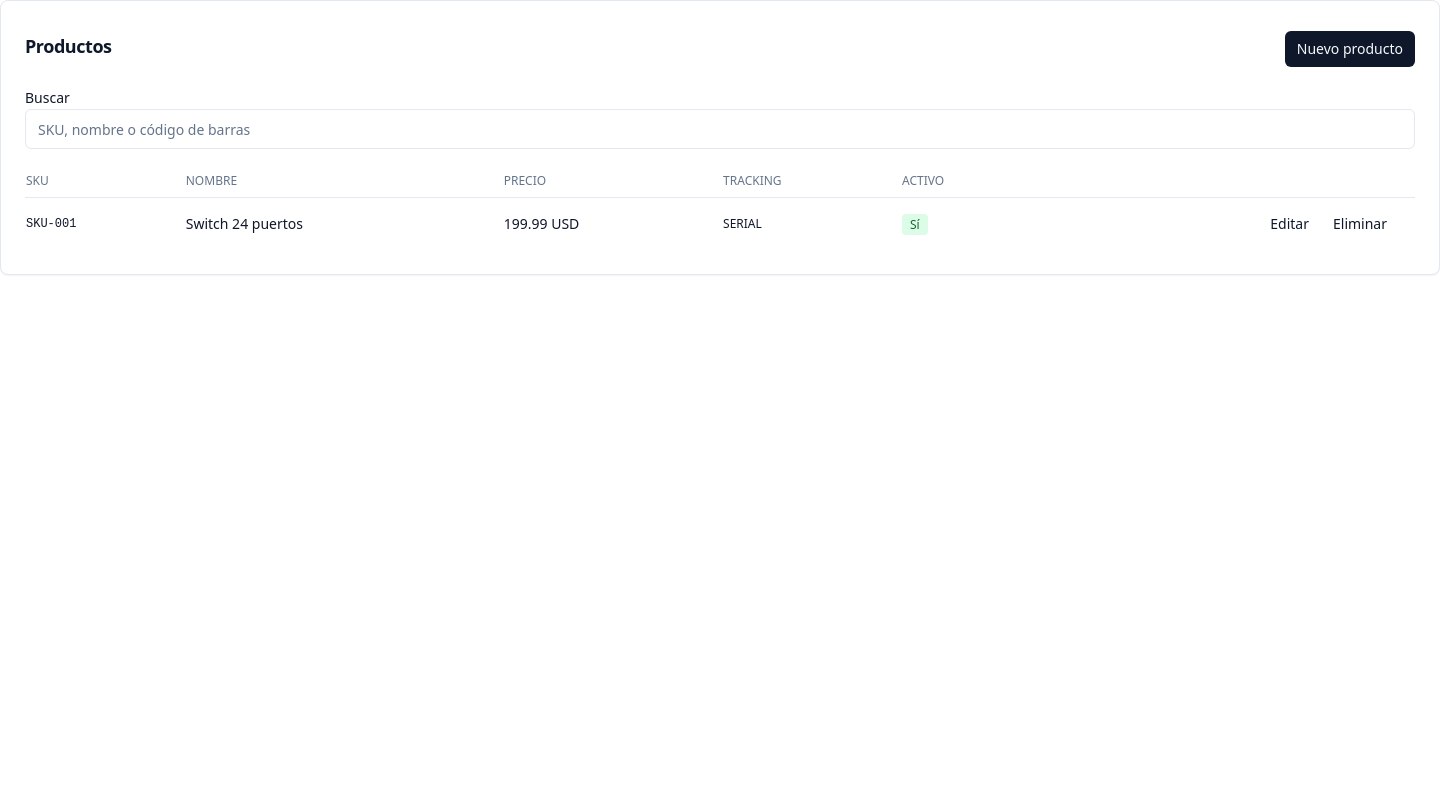
Scenario: ProductsPage — pestaña Precios 3 niveles (HU-11.2) › recálculo bidireccional por fila (cost compartido): editar precio P2 actualiza margen P2 sin tocar P1/P3
Click the button "Editar" at (1290, 224), box [1258,206,1321,242]
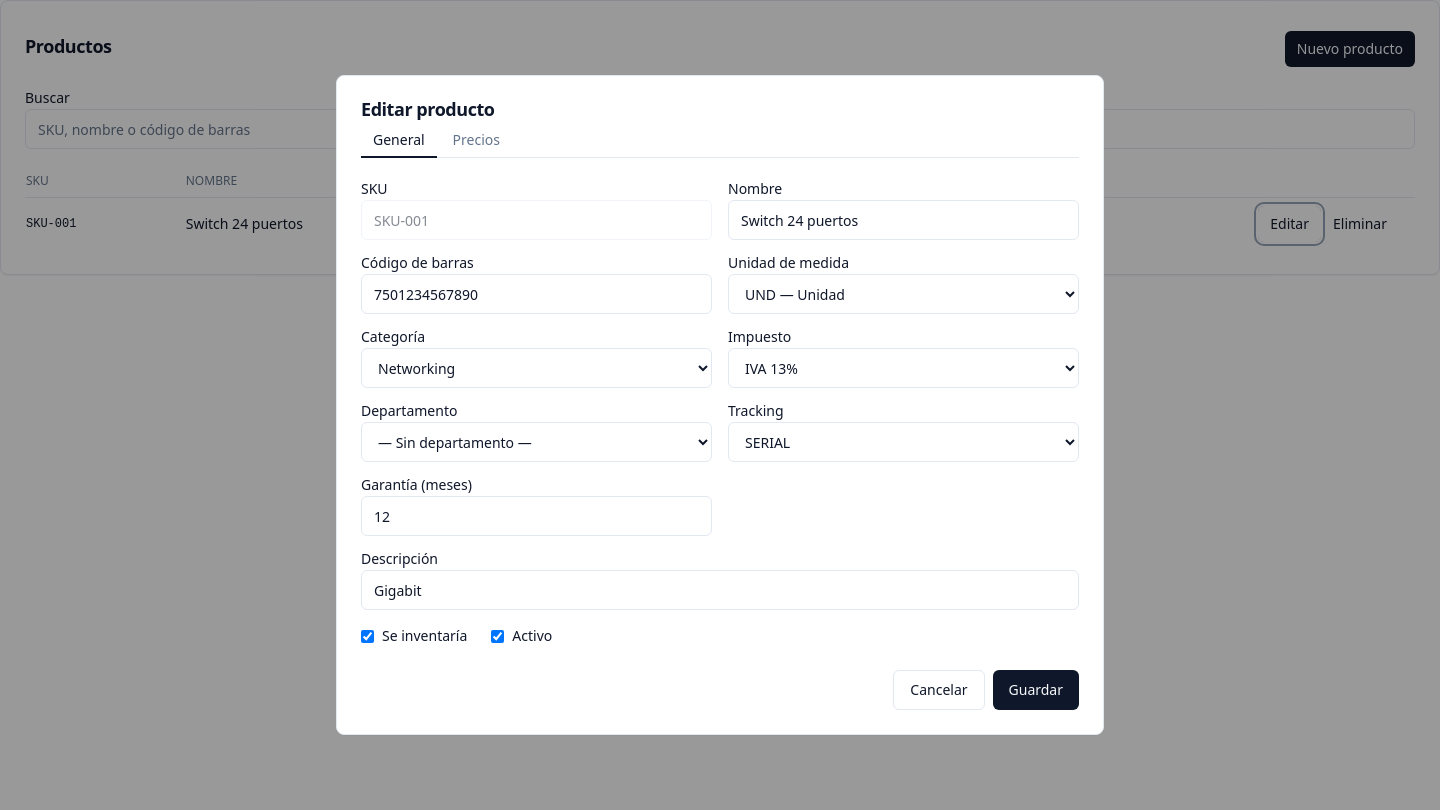
Expected: the heading "Editar producto" is shown, [361,97,494,121]
Click the button "Precios" at (476, 141), box [441,124,512,158]
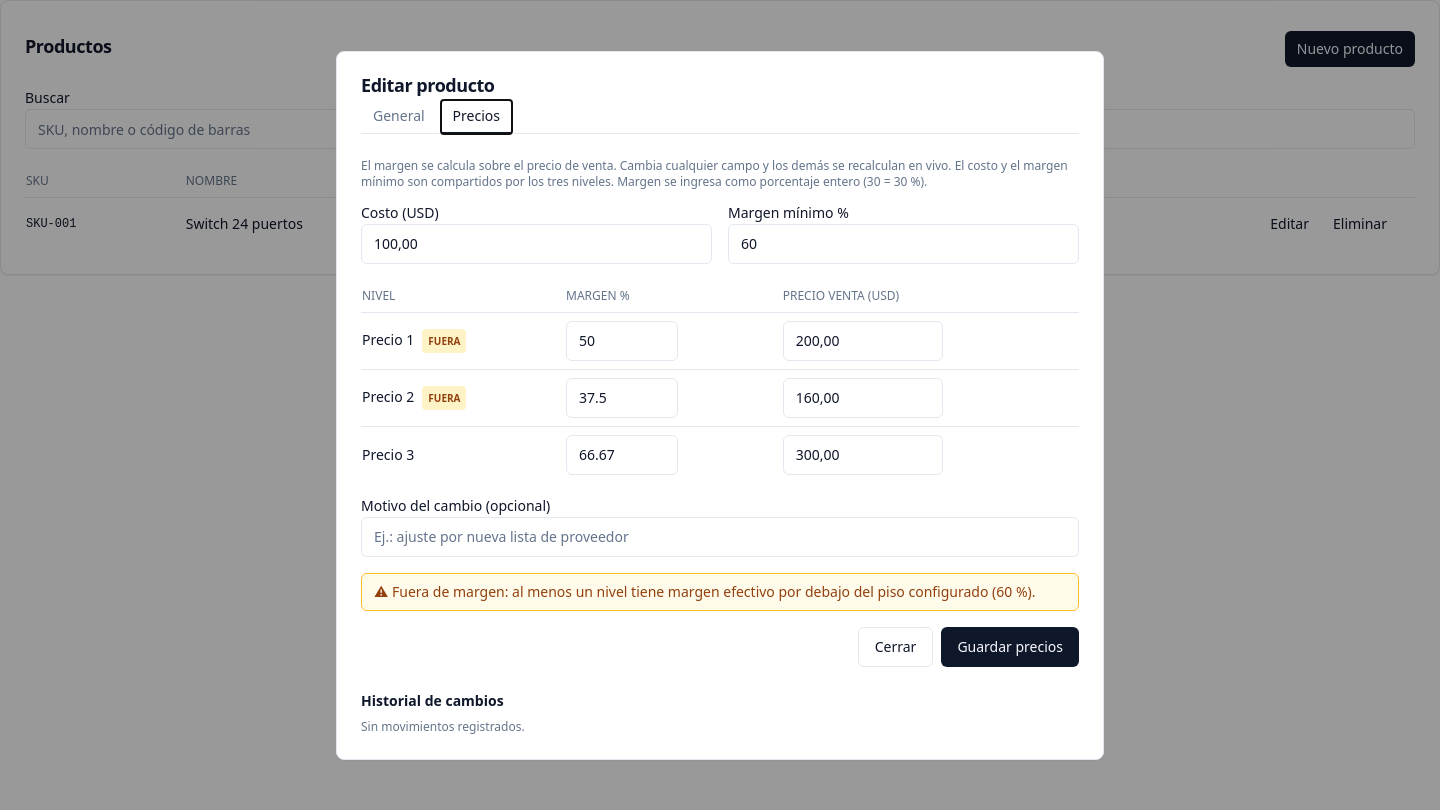
Expected: the field labelled "Costo (USD)" holds "100,00", [361,224,712,264]
Replace the text in the 6th field with "150" at (863, 398), box [783,378,943,418]
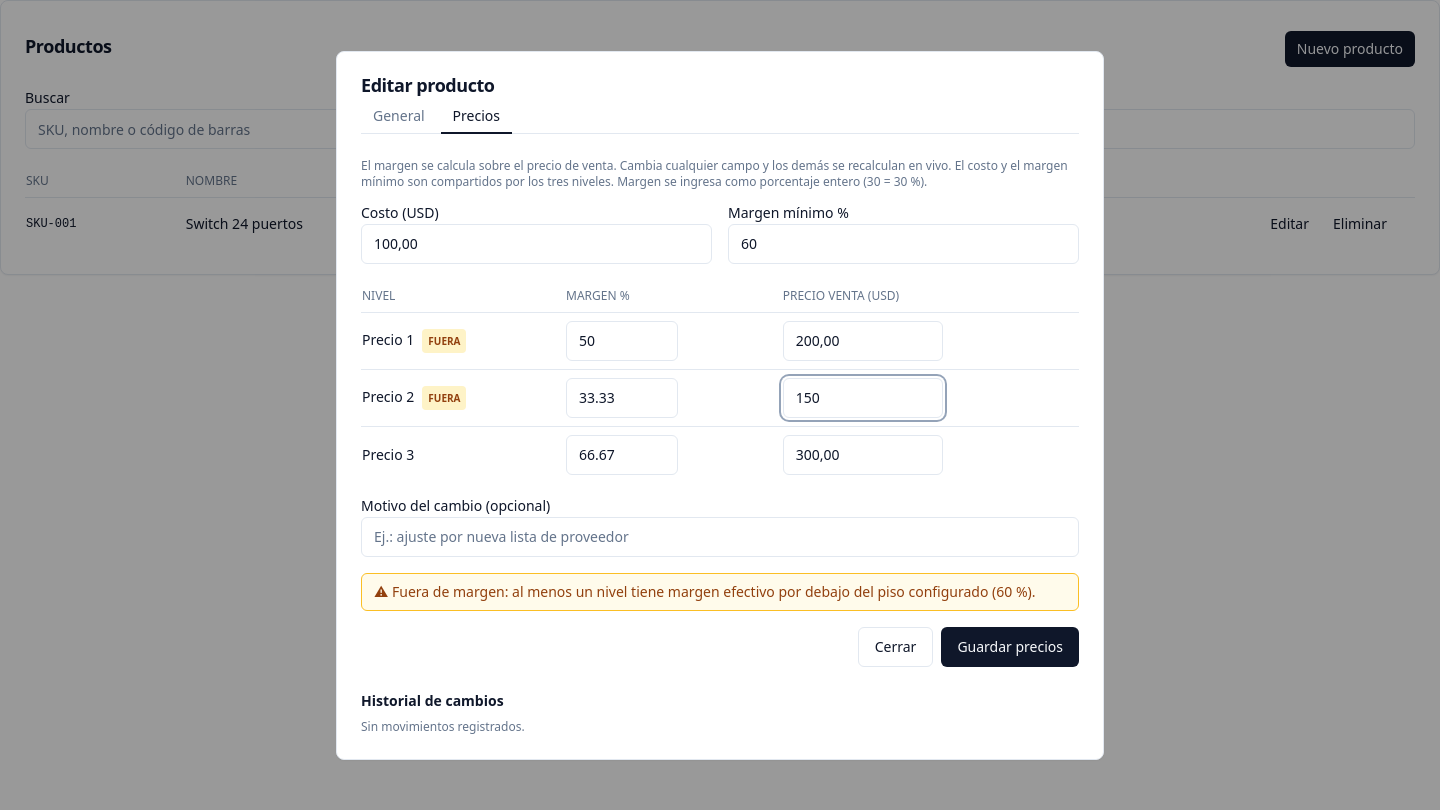
Expected: the 3rd field holds "50", [566,320,678,360]
Expected: the 7th field holds "66.67", [566,434,678,474]
Expected: the 5th field holds "33.33", [566,378,678,418]
